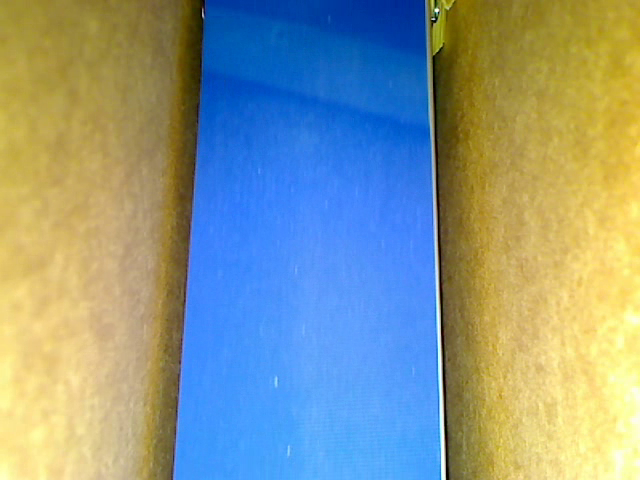penne: (427, 1, 445, 57)
